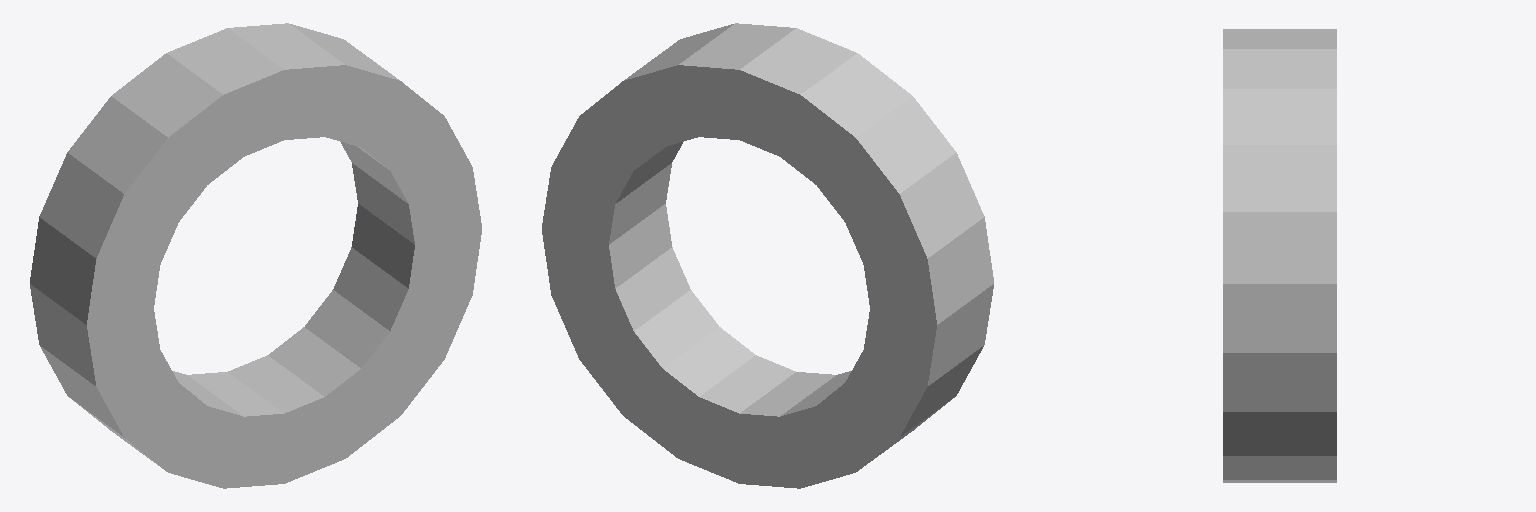
The model's file is cementgrower07.obj.
3 views of the same model, side by side, from view 1: azimuth 30°, elevation 25°; view 2: azimuth 150°, elevation 25°; view 3: azimuth 270°, elevation 25° (orthographic).
Visible parts, largest first — view 1: obj_0; view 2: obj_0; view 3: obj_0.
Boxes of the visible parts, <box> form: obj_0: <box>30,23,481,488</box>; obj_0: <box>542,23,993,488</box>; obj_0: <box>1223,29,1336,482</box>.
Size of the model in its own units: 12 by 12 by 3.